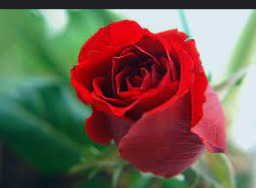RedRose: (65, 15, 233, 183)
